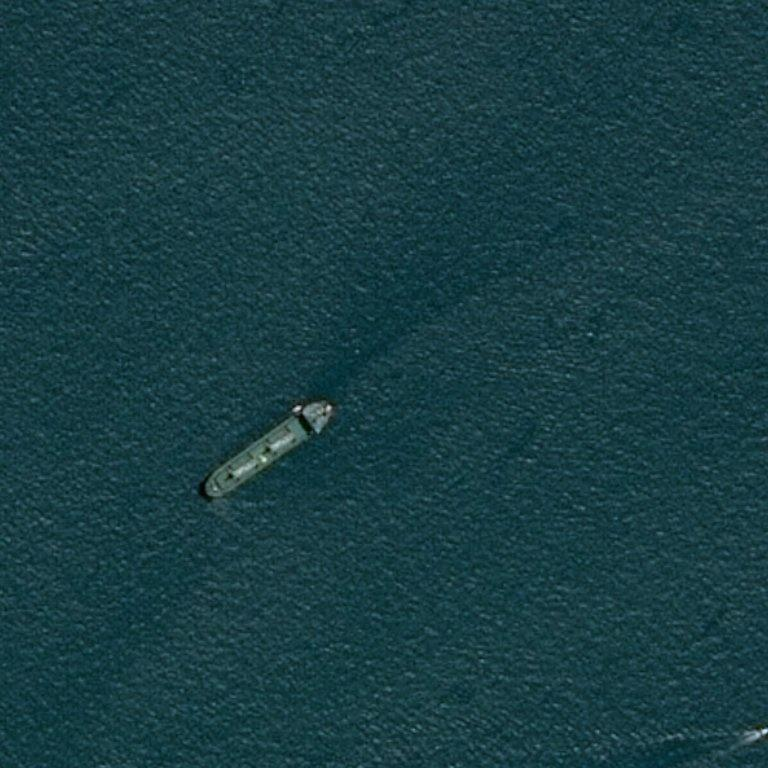ship: (192, 427, 352, 472), (204, 489, 211, 495), (328, 408, 334, 414), (320, 398, 326, 403), (763, 730, 764, 734), (766, 729, 767, 731), (760, 734, 761, 736), (760, 731, 761, 731)
